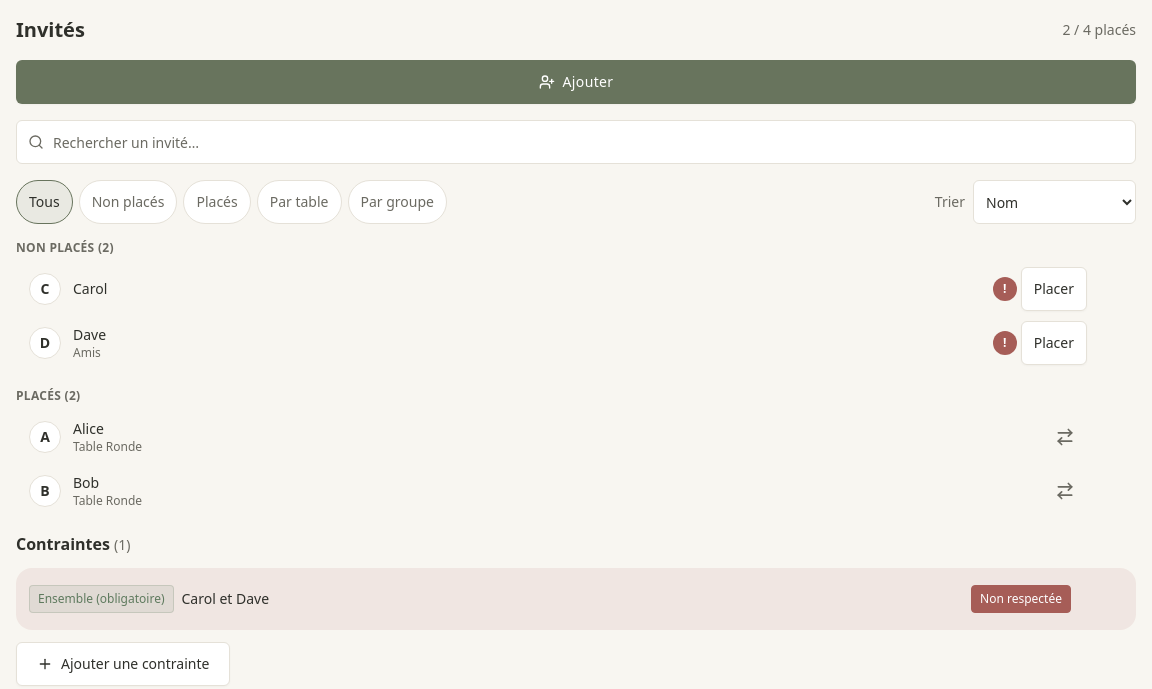
Test: GuestListPanel › Escape clears the selection
Click the button "D Dave Amis": (45, 343) left=17, top=319, right=989, bottom=367
(page scrolled)
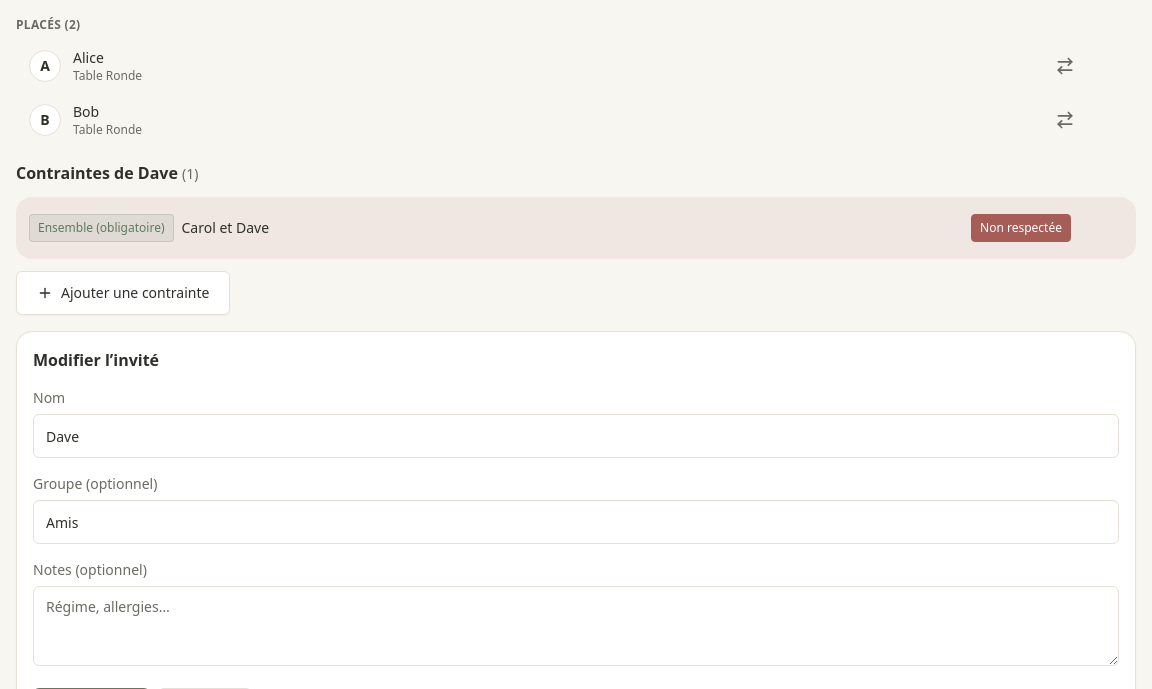
Expected: the heading "Modifier l’invité" is shown, left=33, top=349, right=159, bottom=371
Press Escape
(page scrolled)
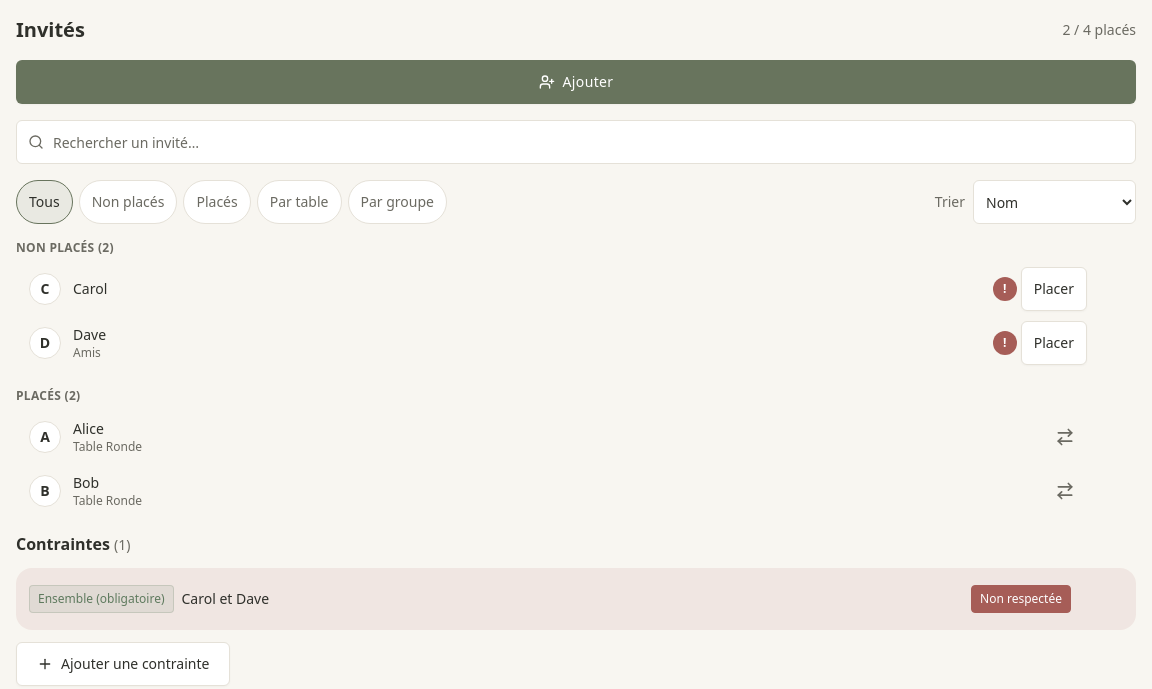
Expected: the heading "Modifier l’invité" is gone
